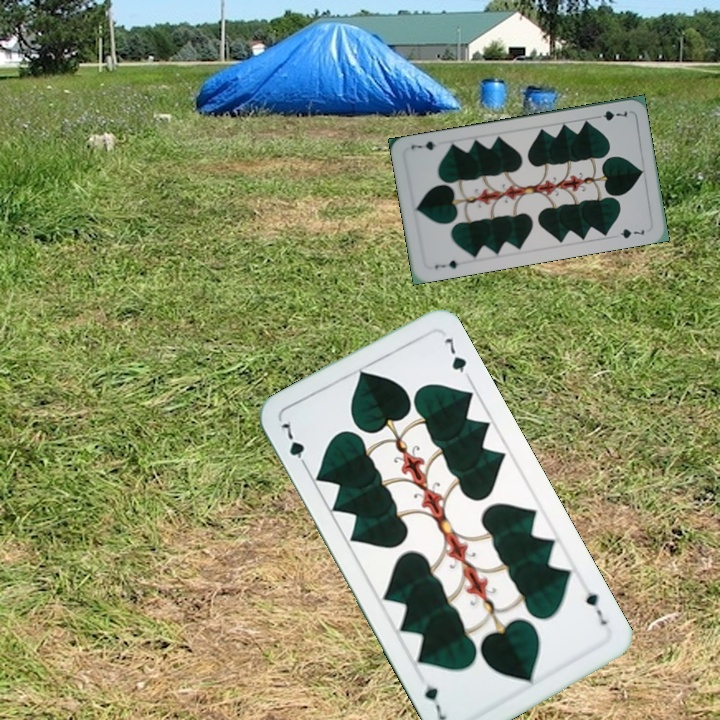G7: (276, 416, 311, 472), (581, 588, 610, 628), (591, 106, 630, 123), (431, 256, 461, 272)
